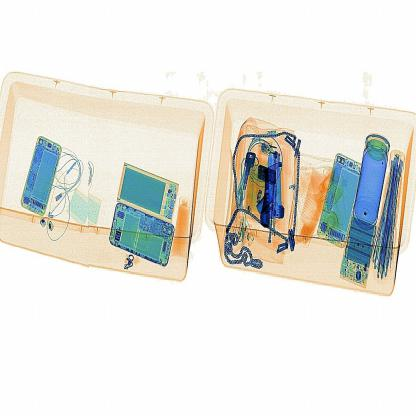pliers: (258, 147, 288, 232)
